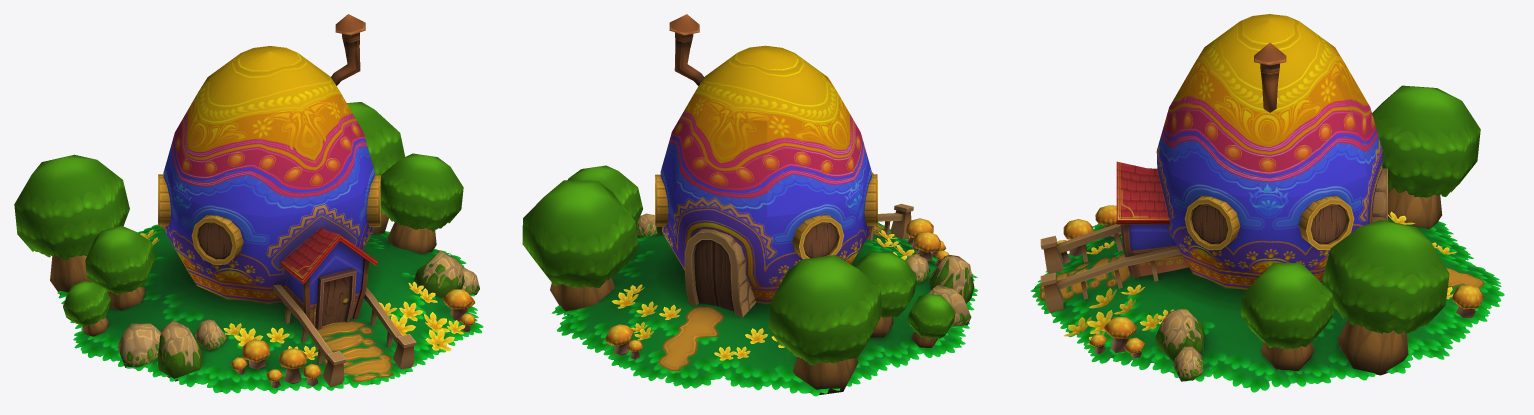
The model's file is Egg_House_01.FBX.
3 renders of one model, left to right at view 1: azimuth 30°, elevation 25°; view 2: azimuth 150°, elevation 25°; view 3: azimuth 270°, elevation 25°, orthographic. The views are drawn at different scales.
Visible parts, largest first — view 1: Egg_House_01; view 2: Egg_House_01; view 3: Egg_House_01.
Boxes of the visible parts, x1,y1,x2,y2 form: Egg_House_01: (14,14,483,393); Egg_House_01: (522,14,977,396); Egg_House_01: (1030,14,1504,392).
Size of the model in its own units: 4.67 by 3.07 by 4.67.
